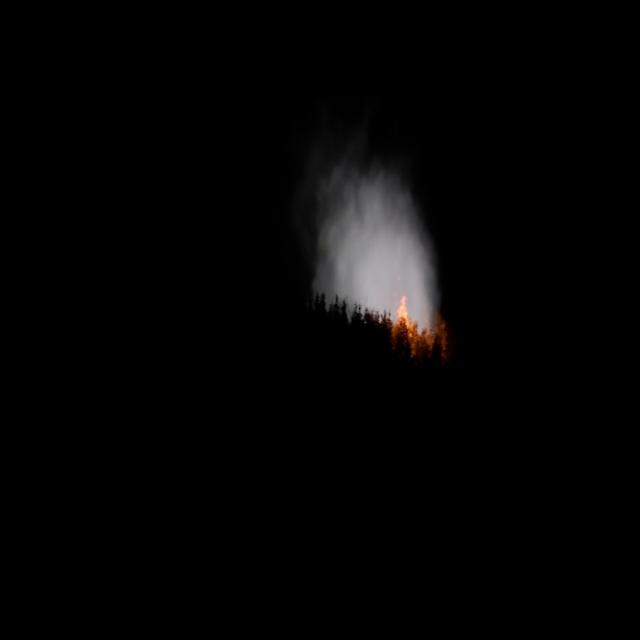fire: (398, 294, 408, 326)
smoke: (312, 144, 443, 344)
